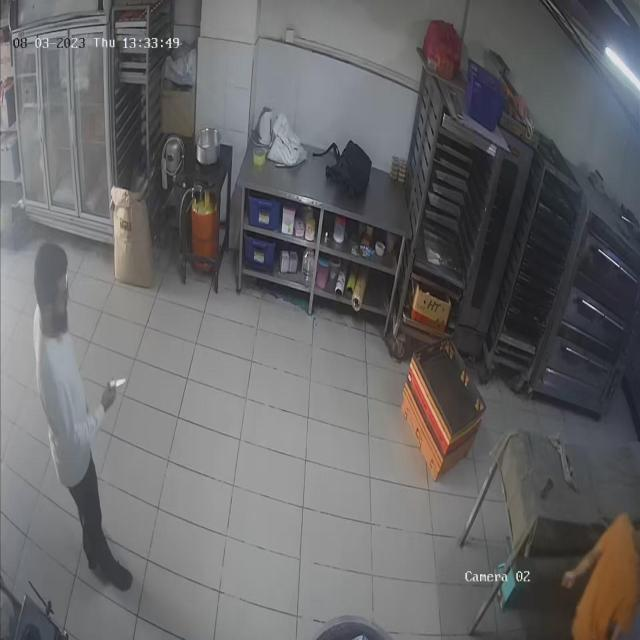Knife: (105, 368, 147, 402)
